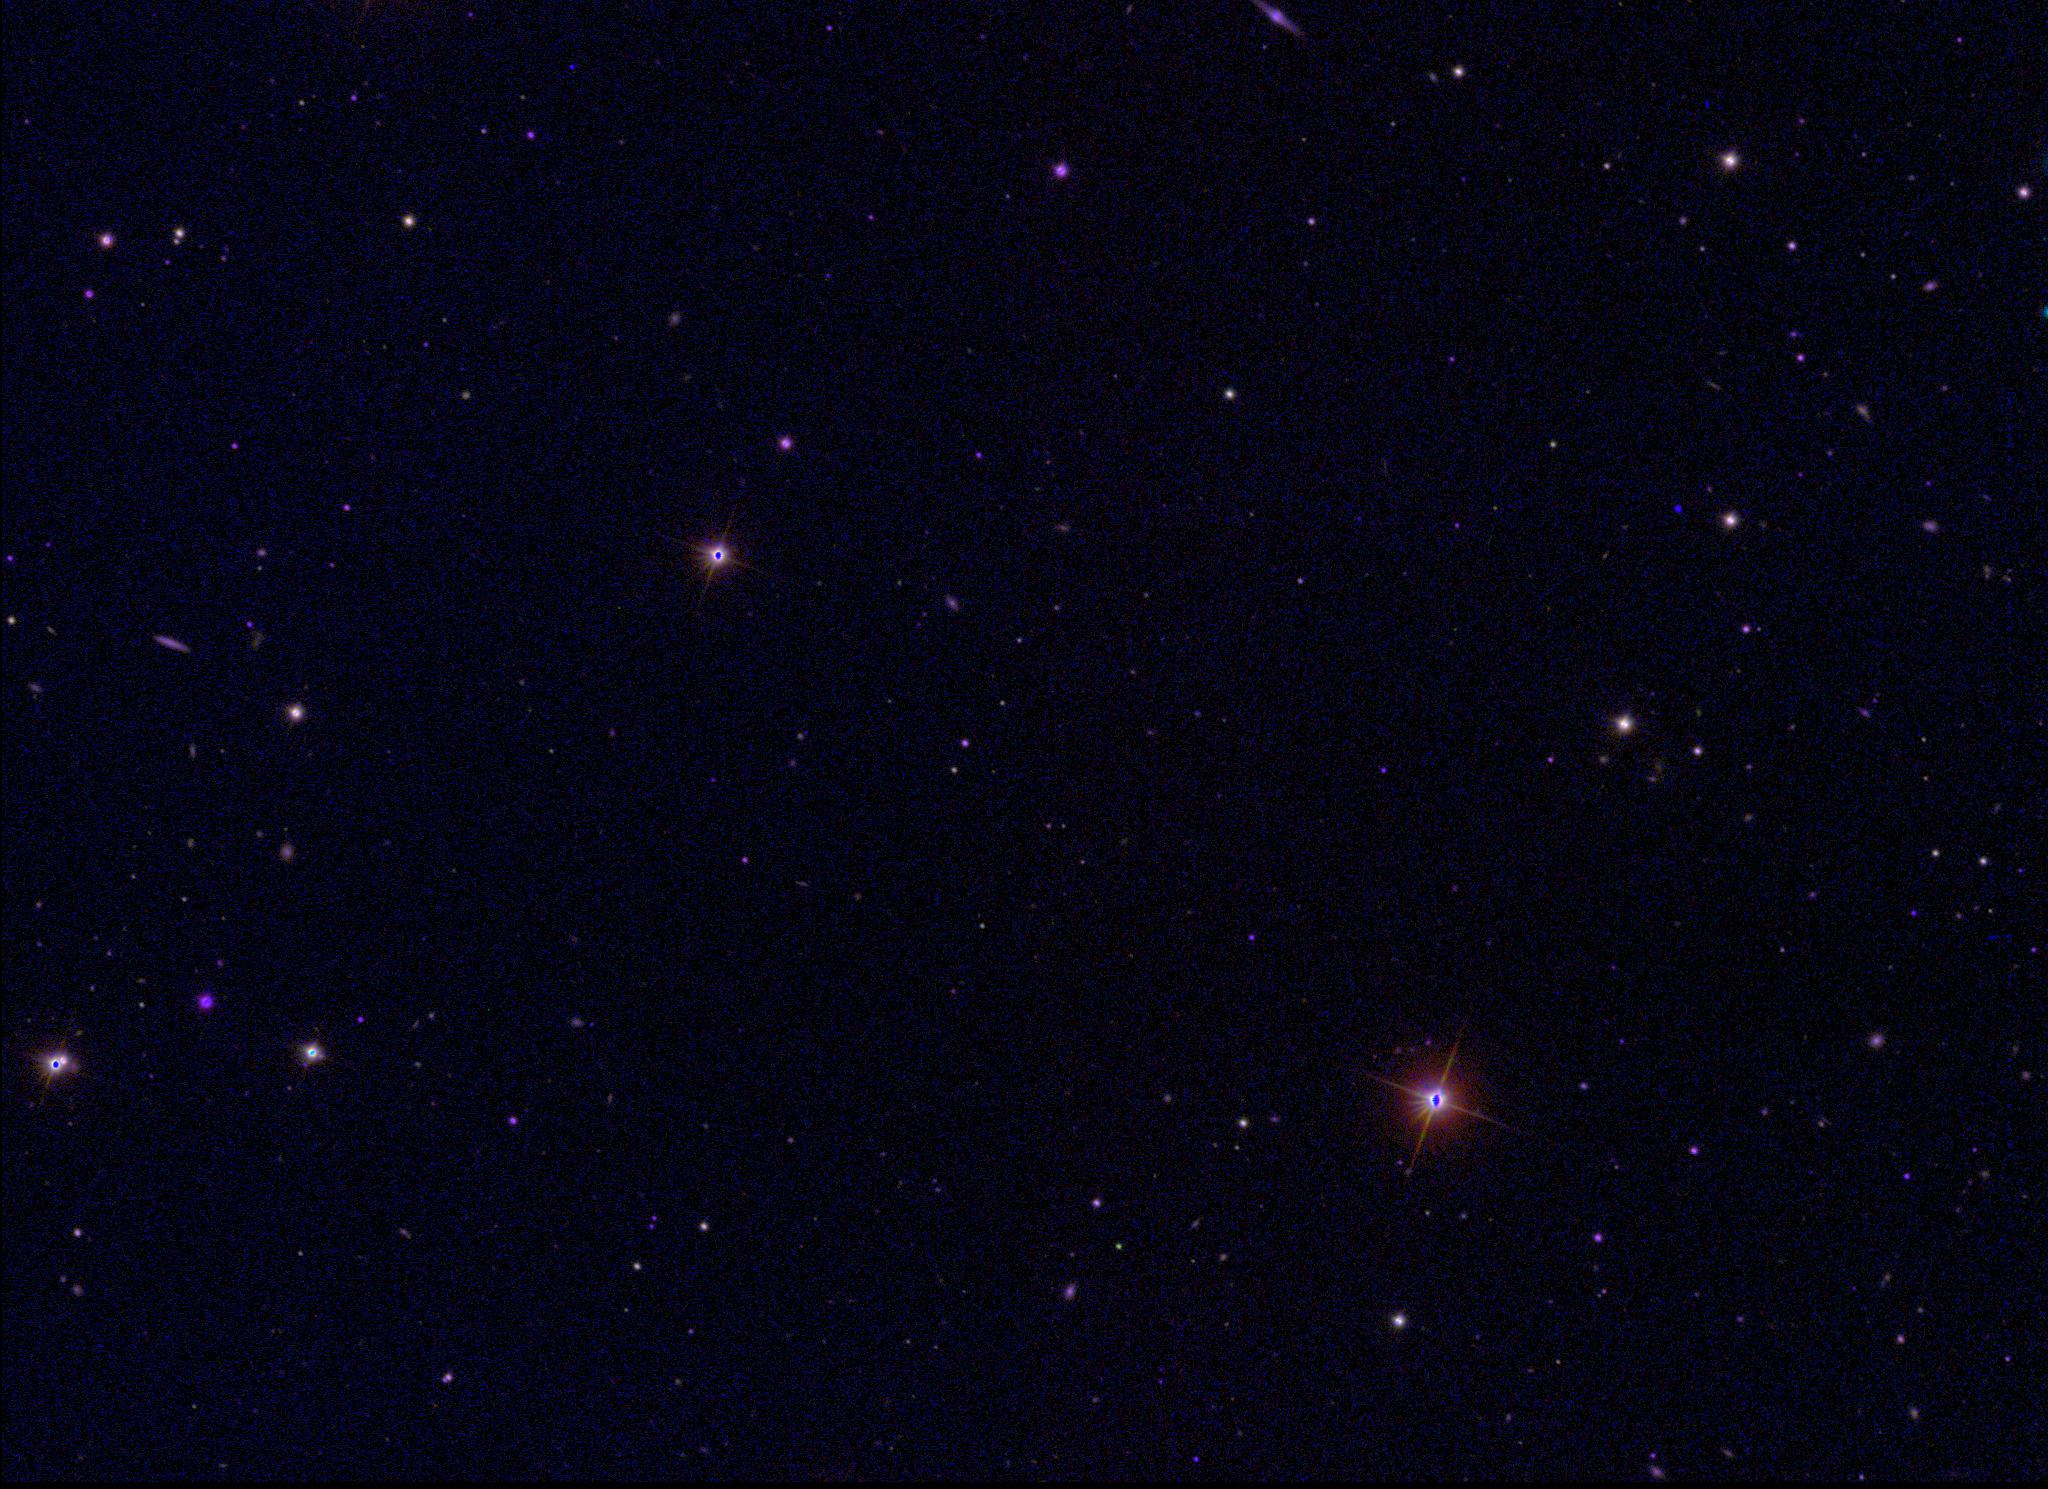L: (1673, 503, 1687, 517)
